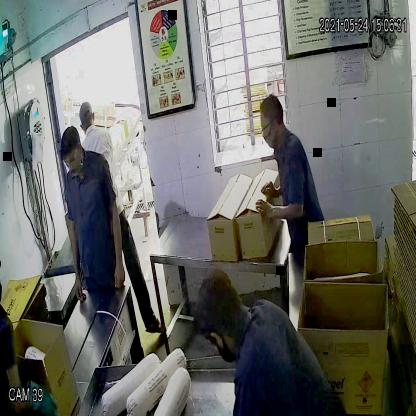goggles: (61, 146, 80, 168)
